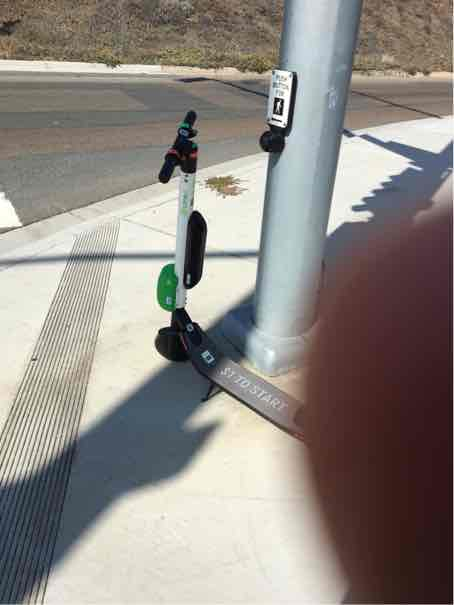scooter: (132, 86, 352, 466)
